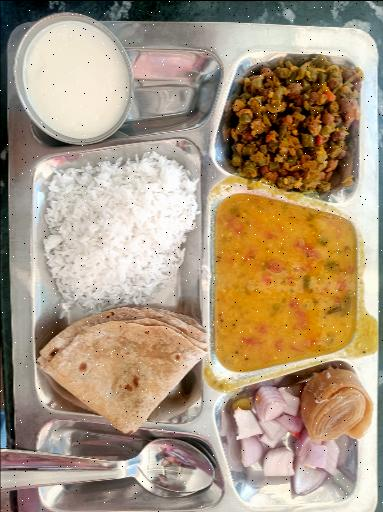Curd: (12, 3, 136, 138)
Dal: (216, 196, 358, 362)
Rice: (41, 154, 196, 298)
Roti: (39, 308, 209, 428)
Salad: (221, 380, 298, 494)
Sweet: (290, 366, 383, 440)
Vegetable: (225, 46, 370, 184)
